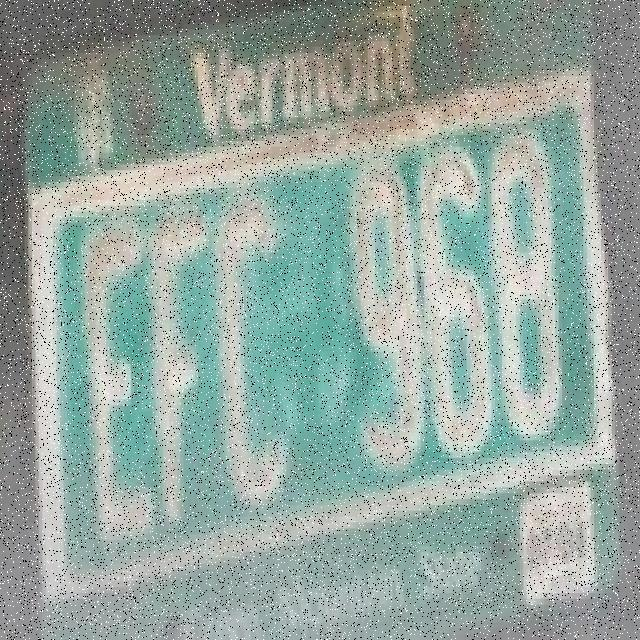LicensePlate: (23, 0, 624, 637)
